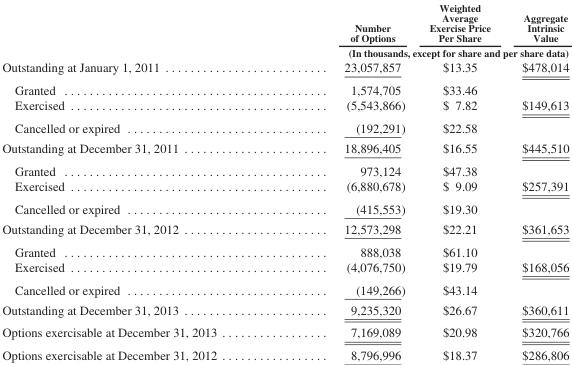table: (1, 1, 568, 361)
table column: (1, 1, 279, 361), (279, 1, 416, 361), (416, 1, 505, 361), (505, 1, 568, 361)
table column header: (1, 1, 568, 59)
table row: (1, 1, 568, 44), (1, 320, 568, 343), (1, 137, 568, 159), (1, 277, 568, 299), (1, 116, 568, 137), (1, 197, 568, 218), (1, 218, 568, 239), (1, 299, 568, 320), (1, 59, 568, 78), (1, 78, 568, 97), (1, 97, 568, 116), (1, 159, 568, 178), (1, 178, 568, 197), (1, 239, 568, 258), (1, 258, 568, 277), (1, 343, 568, 361), (1, 44, 568, 59)
table spanning cell: (279, 44, 568, 59)
